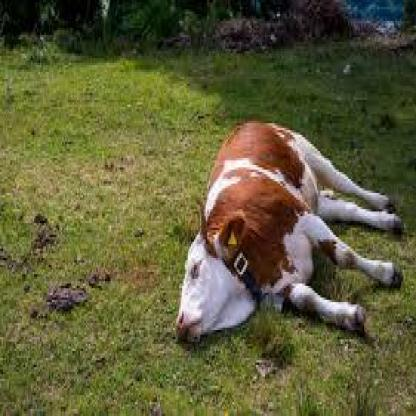cow: (177, 120, 405, 345)
